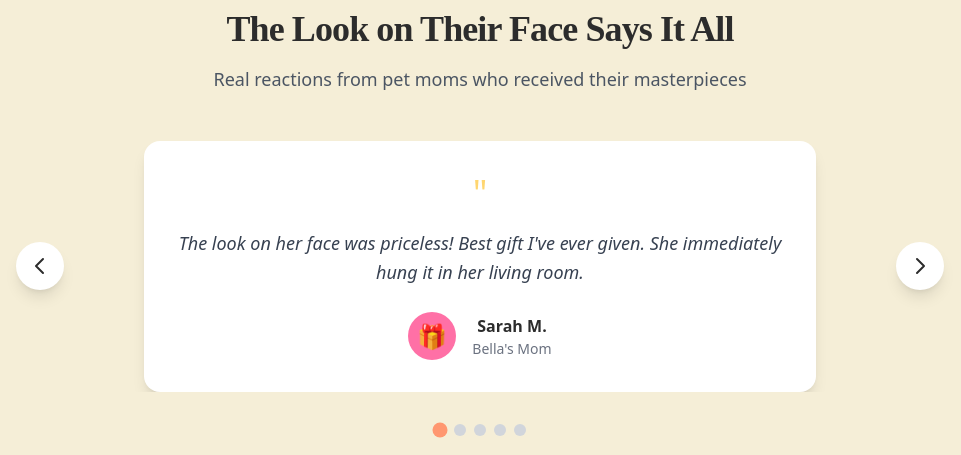
it: ReactionsSection › navigates to previous testimonial when previous button is clicked
First go to next testimonial
What coordinates should you click on to do the following:
click the button named "Next testimonial"
I would click on:
 (920, 266)
Its box is [896,242,944,290].
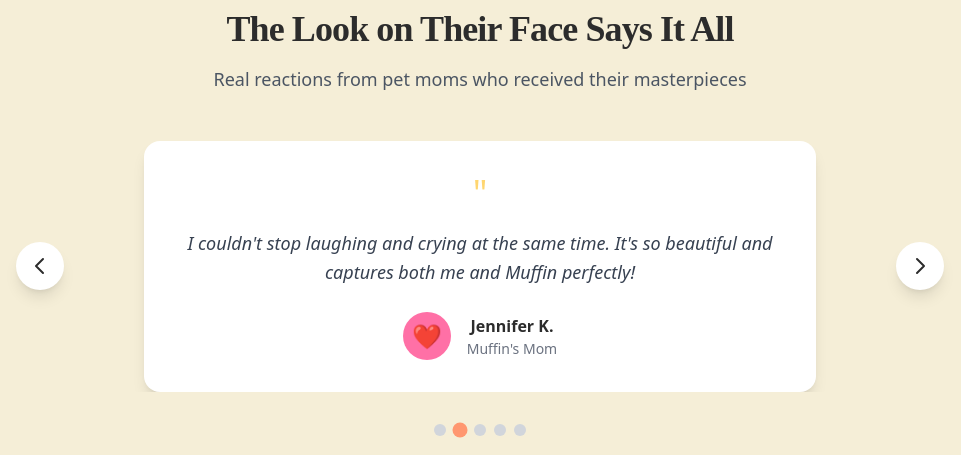
Expected: the text "Jennifer K." is shown, [467,312,557,338]
Then go back to previous
What coordinates should you click on to do the following:
click the button named "Previous testimonial"
I would click on:
 (40, 266)
Its box is [16,242,64,290].
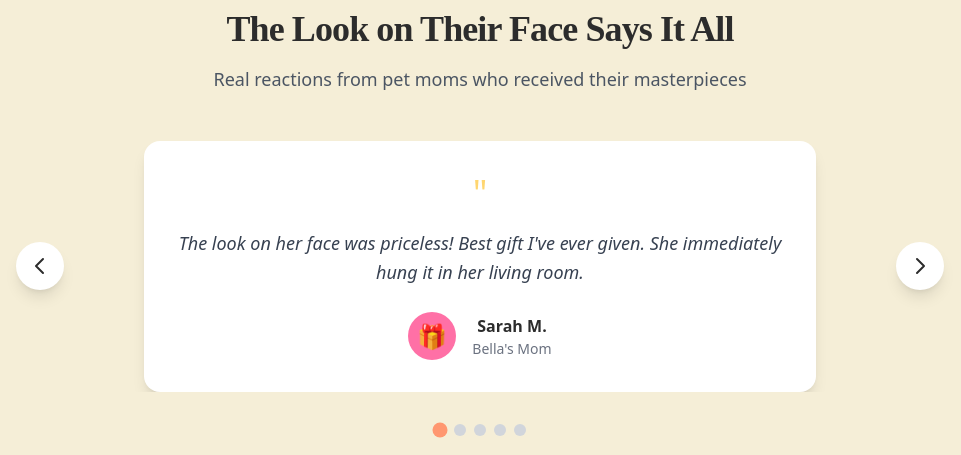
Expected: the text "Sarah M." is shown, [472,312,552,338]
